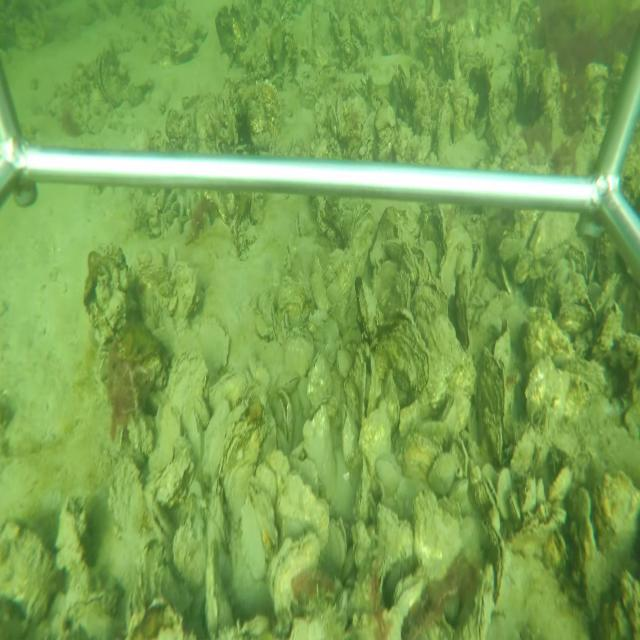Oyster-Closed: (275, 469, 331, 554), (269, 529, 321, 617), (375, 320, 431, 393), (476, 340, 508, 466), (162, 350, 210, 407), (439, 227, 472, 297), (194, 307, 232, 367), (465, 559, 493, 637), (485, 519, 508, 612), (97, 47, 129, 108), (307, 348, 334, 410), (357, 278, 378, 337), (353, 458, 370, 521), (384, 370, 401, 433), (455, 292, 471, 351), (507, 489, 519, 524)
Oyster-Indeterminate: (412, 497, 478, 578), (145, 406, 183, 476), (425, 452, 458, 495), (372, 262, 398, 306), (311, 273, 336, 311)
Oyster-Open: (349, 337, 381, 421), (268, 389, 295, 444)
